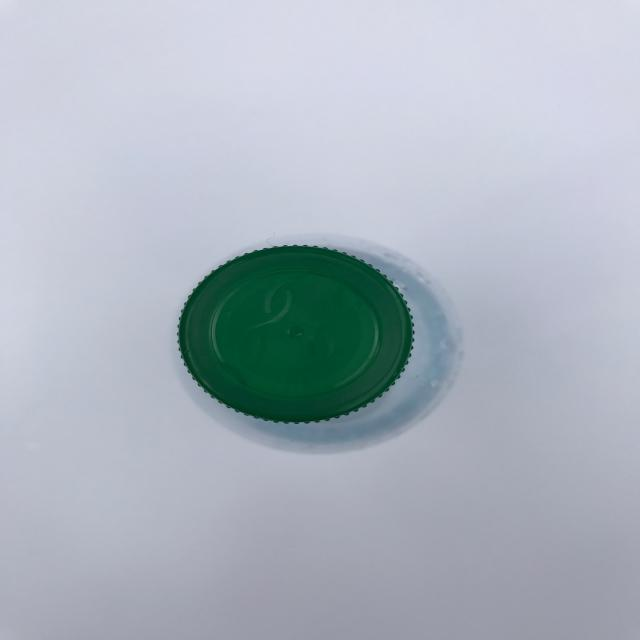plastic: (173, 241, 474, 461)
